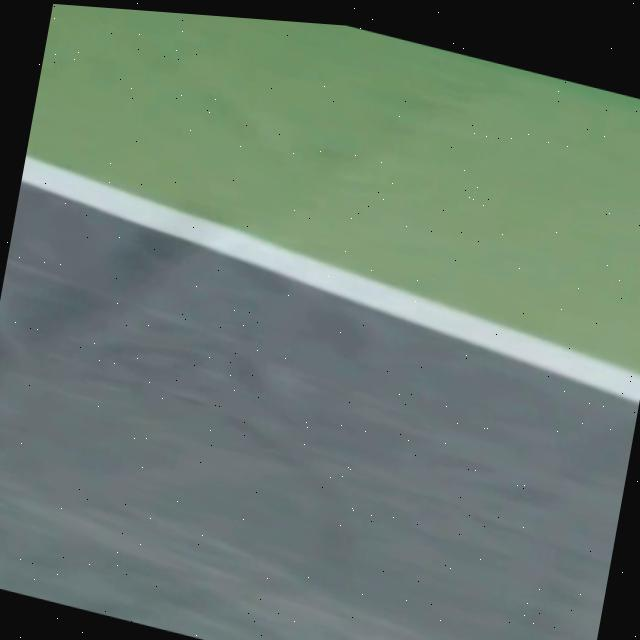right: (20, 155, 640, 403)
